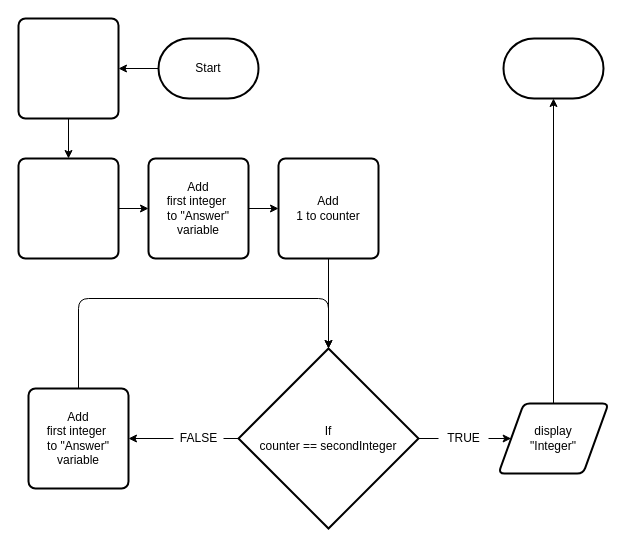
Image size: 626x546. Some labels were removed from this diagram. Here are the shapes that lost their labels. From the top down, the centre of each, then its label:
(x=68, y=68): Enter Integer
(x=553, y=68): Stop
(x=68, y=208): Enter secondInteger
